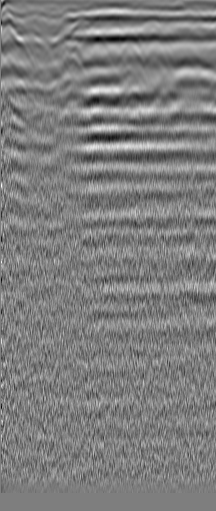오수: (21, 23, 54, 58)
우수: (151, 74, 174, 98)
